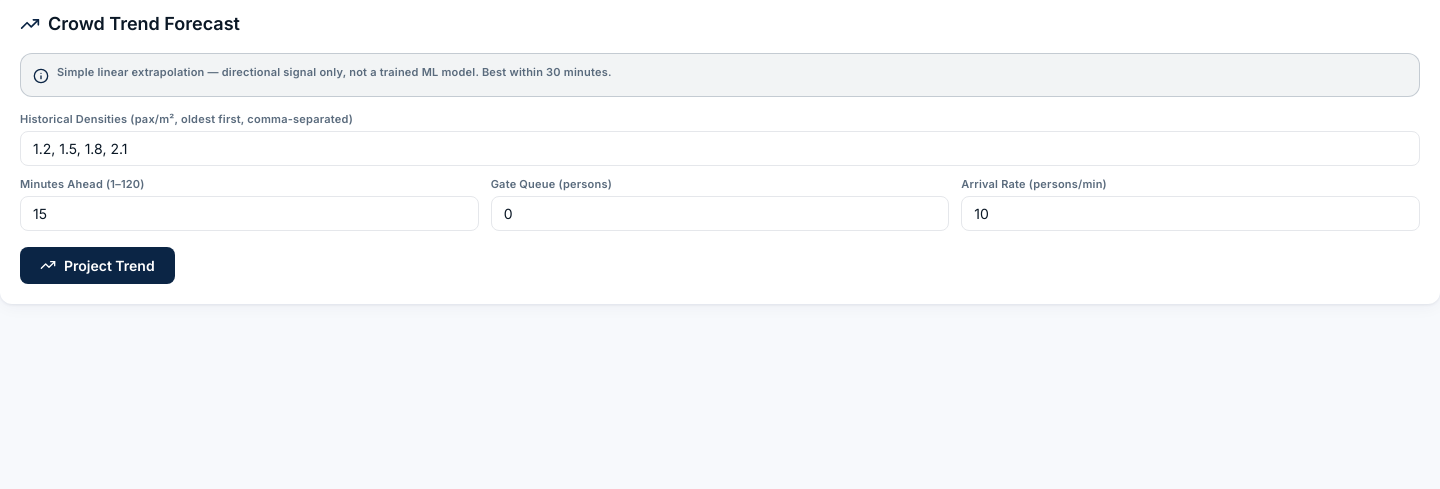
PredictionPanel › passes axe accessibility check with results displayed
The image size is (1440, 489).
Click the button "Project Trend".
click(97, 265)  # box [20,246,175,284]
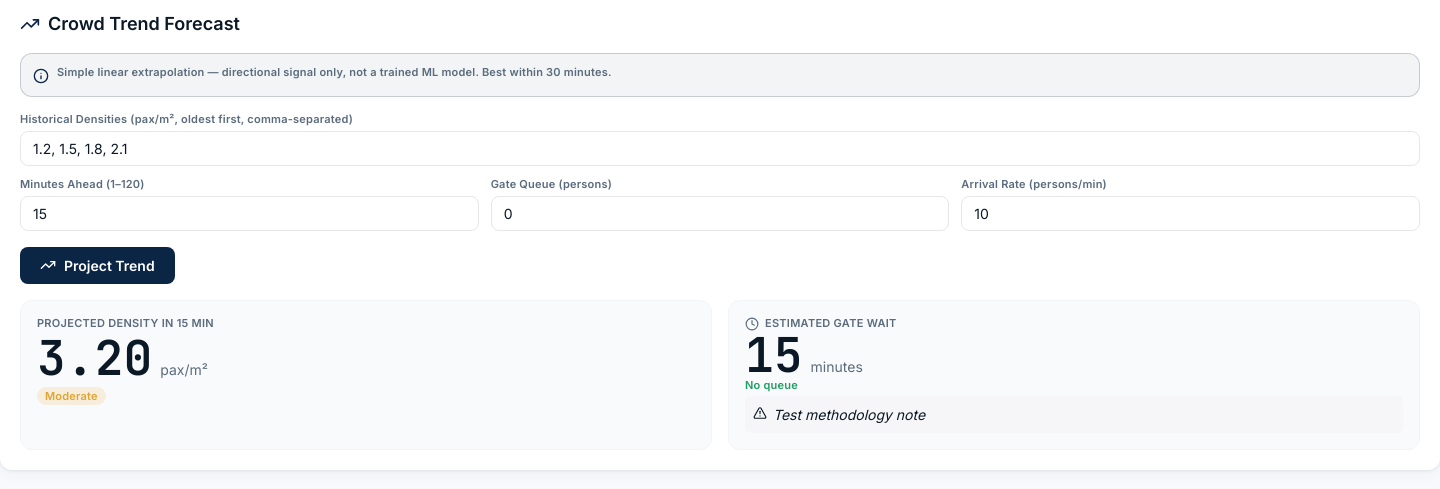
expect the text "3.20" is shown: met, box [37,334,152,382]
